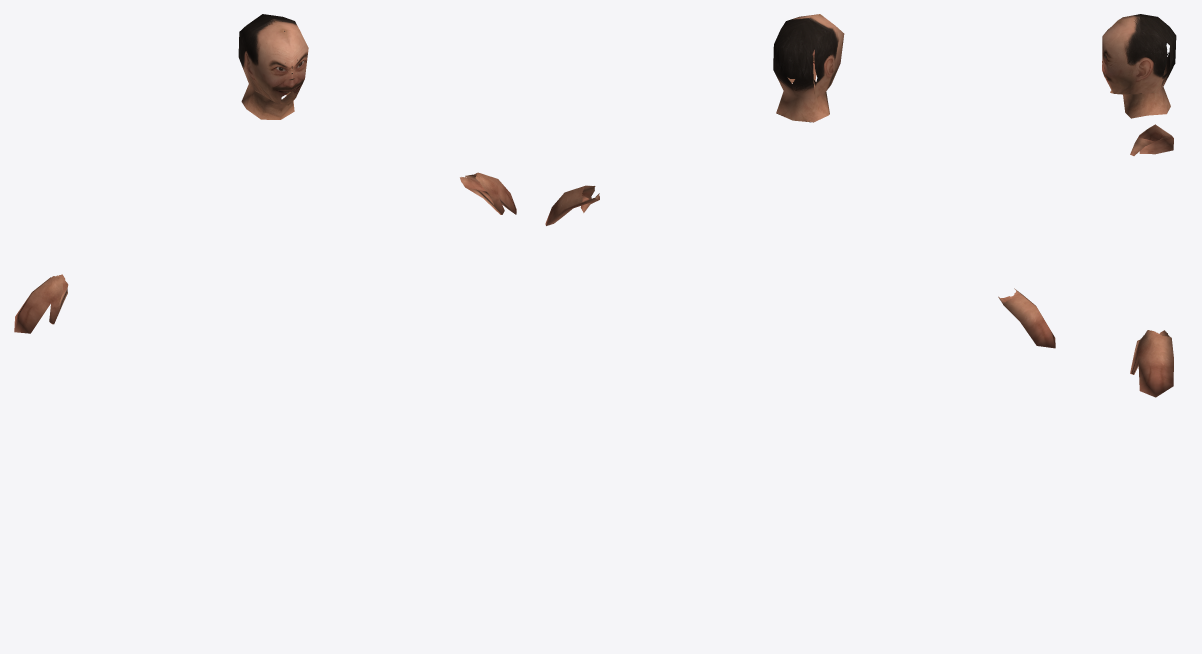
The model's file is Boss.fbx.
The picture shows the model from 3 angles, left to right: view 1: azimuth 30°, elevation 25°; view 2: azimuth 150°, elevation 25°; view 3: azimuth 270°, elevation 25°; orthographic projection.
Parts seen in each view (by area): view 1: HumanoidBase_Overlapping; view 2: HumanoidBase_Overlapping; view 3: HumanoidBase_Overlapping.
Part boxes in pixels (x1,y1,x2,y2): HumanoidBase_Overlapping: (14,14,516,333); HumanoidBase_Overlapping: (545,14,1055,348); HumanoidBase_Overlapping: (1102,14,1176,397).
Size of the model in its own units: 161 by 180 by 28.62.
1 material, 1 textured.
